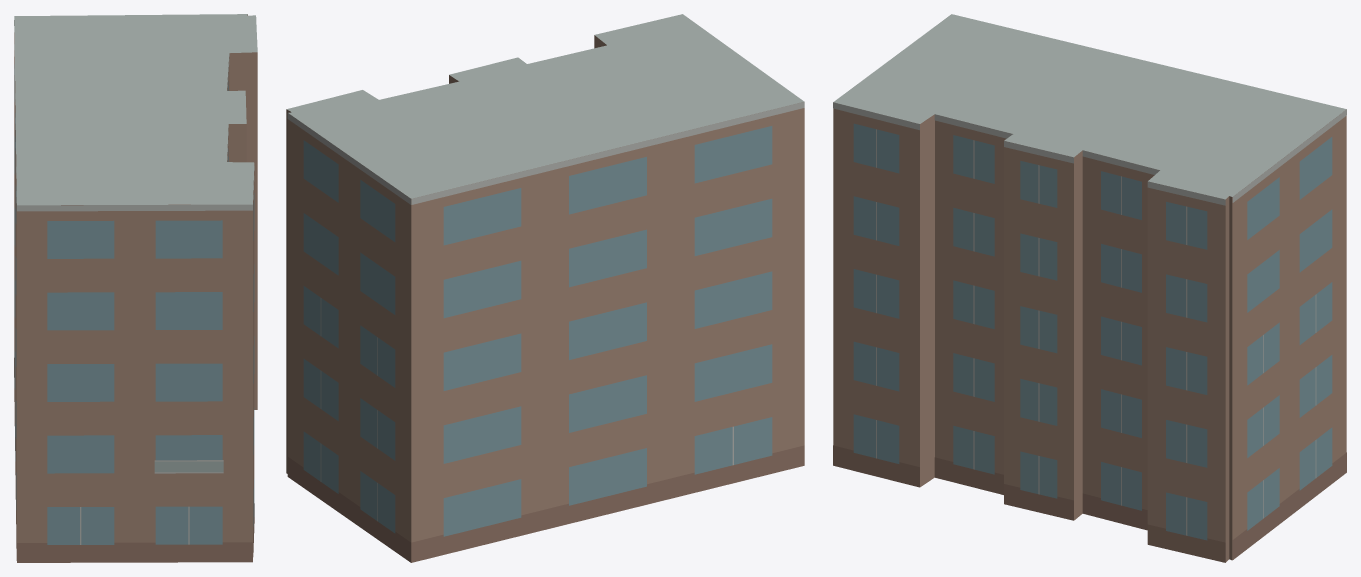
The model's file is survey-upis-32907182.glb.
3 views of the same model, side by side, from view 1: azimuth 30°, elevation 25°; view 2: azimuth 150°, elevation 25°; view 3: azimuth 270°, elevation 25° (orthographic).
Visible parts, largest first — view 1: survey-upis-32907182.tmp; view 2: survey-upis-32907182.tmp; view 3: survey-upis-32907182.tmp.
Boxes of the visible parts, x1=… form: survey-upis-32907182.tmp: x1=14, y1=14, x2=257, y2=562; survey-upis-32907182.tmp: x1=286, y1=14, x2=804, y2=562; survey-upis-32907182.tmp: x1=833, y1=14, x2=1346, y2=562.
Size of the model in its own units: 15.56 by 14.2 by 18.2.
